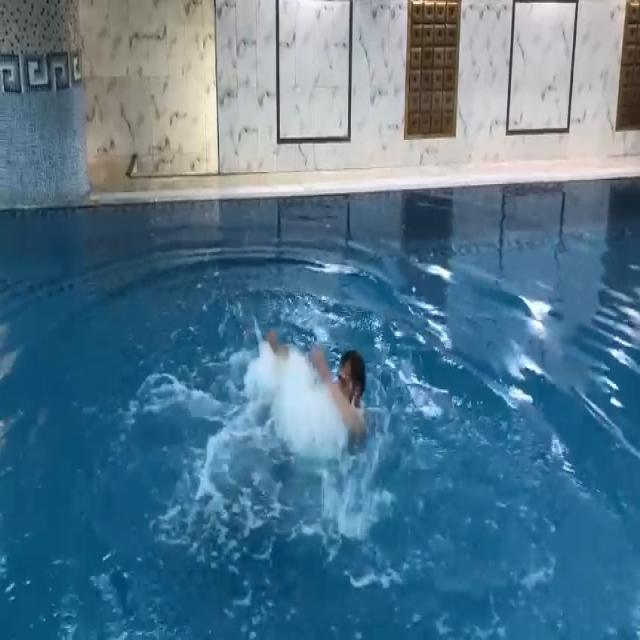Drowning: (242, 330, 371, 469)
